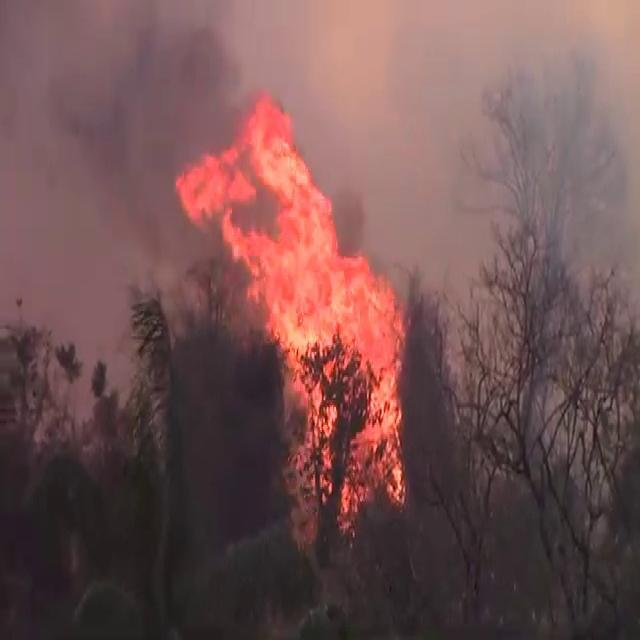Fire: (176, 94, 405, 559)
